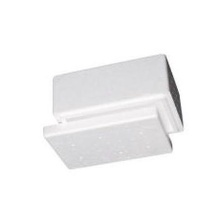foam_box: (36, 49, 190, 177)
